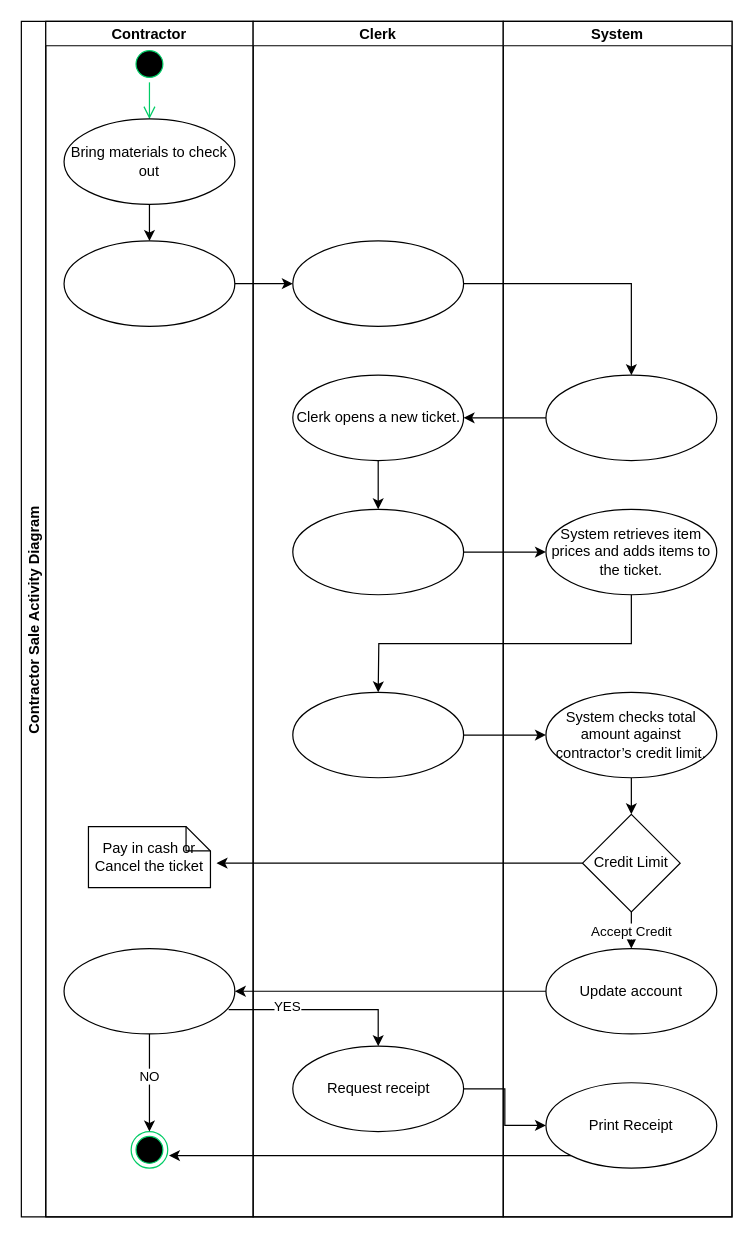
Some shapes in this 754 by 1238 pixel diagram are drawn without their labels. Each missing label, with the box of its shape:
Clerk ends the sale.: (292, 691, 464, 778)
Clerk enters contractor’s name into the system.: (292, 240, 464, 326)
Clerk scans items for purchase.: (292, 508, 464, 595)
Contractor requests printout?: (63, 947, 235, 1034)
Provide Name or ID: (63, 240, 235, 326)
System retrieves contractor’s information and displays current credit standing.: (545, 374, 717, 461)
